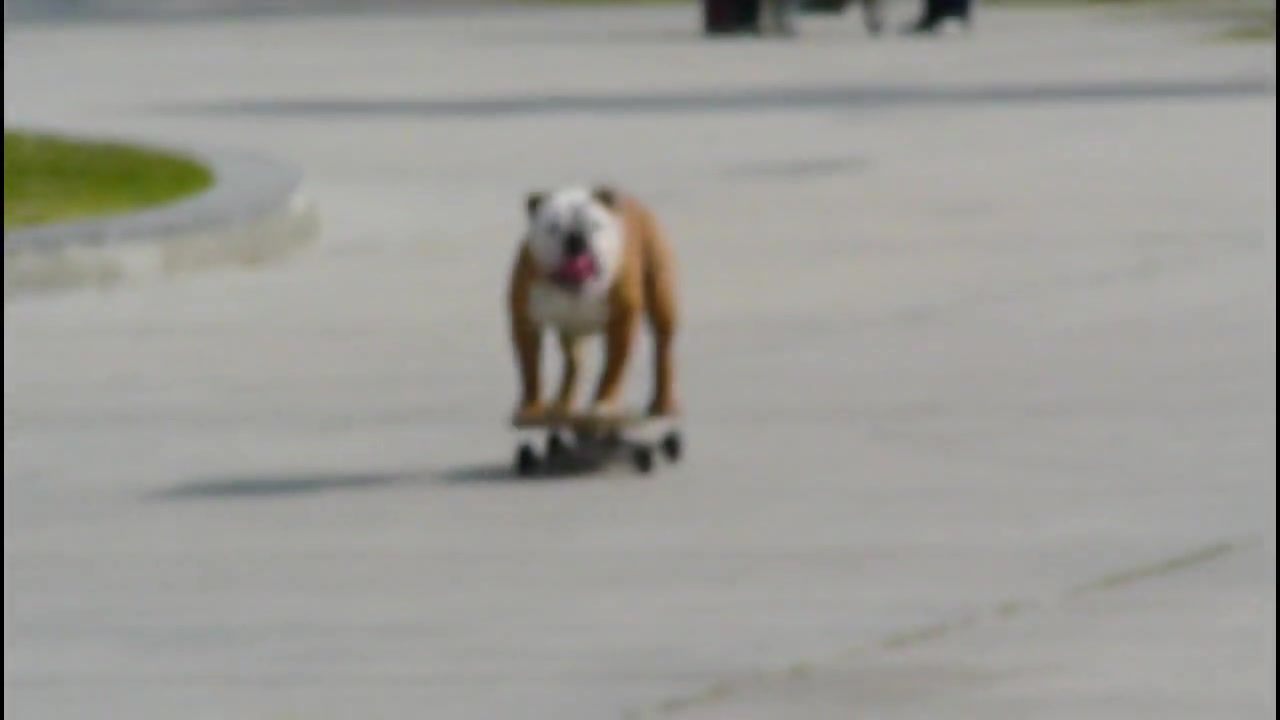dog: (504, 183, 681, 418)
